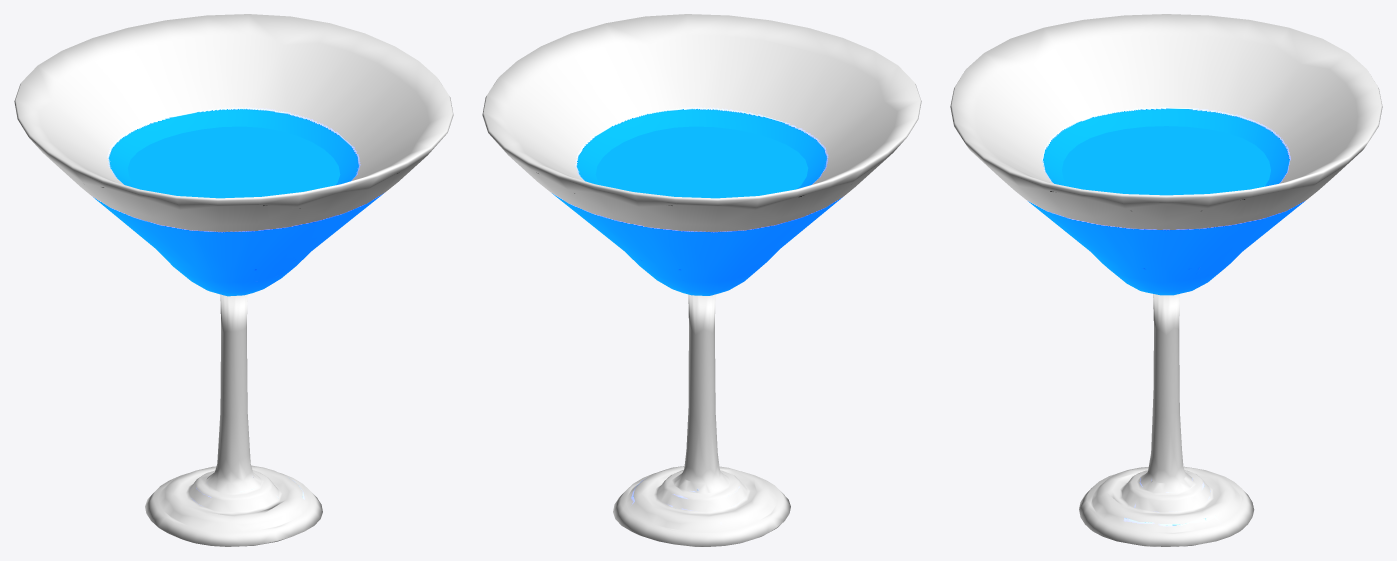
File: drink1_re.fbx
3 renders of one model, left to right at view 1: azimuth 30°, elevation 25°; view 2: azimuth 150°, elevation 25°; view 3: azimuth 270°, elevation 25°, orthographic.
Parts seen in each view (by area): view 1: drink1_Baked.003; view 2: drink1_Baked.003; view 3: drink1_Baked.003.
Part boxes in pixels (x1,y1,x2,y2): drink1_Baked.003: [14, 14, 453, 546]; drink1_Baked.003: [482, 14, 921, 546]; drink1_Baked.003: [950, 14, 1382, 546].
Bounding box in the file's own units: 113 × 118 × 113.
Materials: 1 (1 with a texture image).
